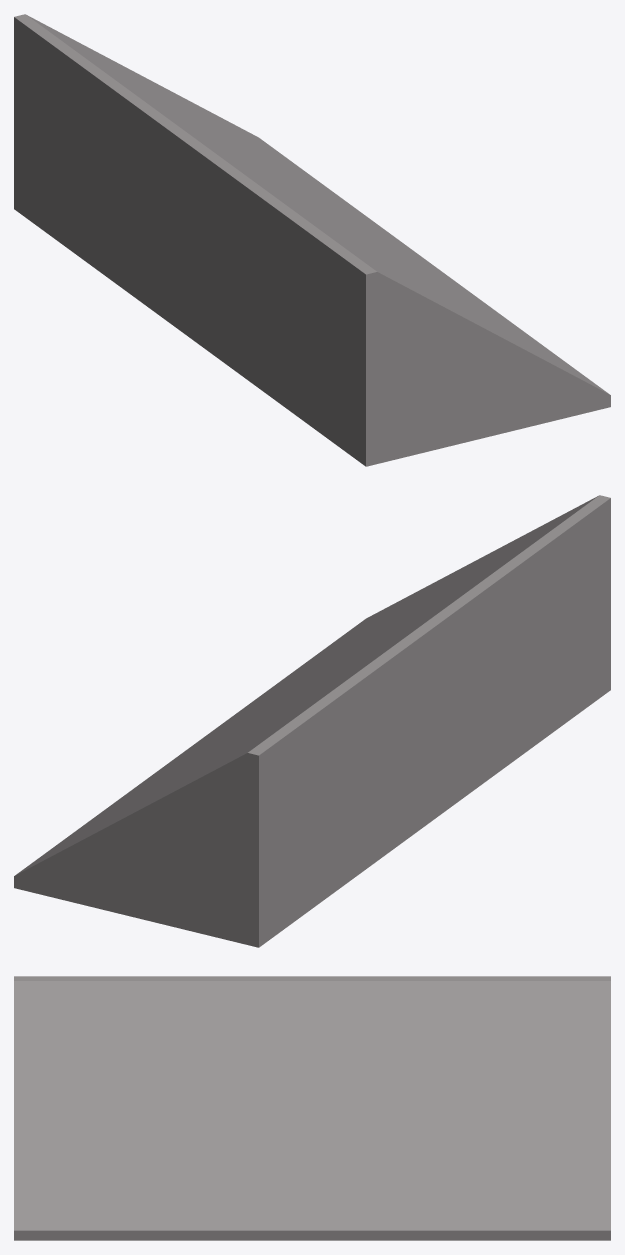
The model's file is pavement.fbx.
The picture shows the model from 3 angles, top to bottom: view 1: azimuth 30°, elevation 25°; view 2: azimuth 150°, elevation 25°; view 3: azimuth 270°, elevation 25°; orthographic projection. The views are drawn at different scales.
Visible parts, largest first — view 1: pavement; view 2: pavement; view 3: pavement.
Part boxes in pixels (left/top/right/bottom): pavement: left=14, top=14, right=610, bottom=466; pavement: left=14, top=495, right=610, bottom=947; pavement: left=14, top=976, right=610, bottom=1240.
Bounding box in the file's own units: 200 × 150 × 498.
Materials: 1 (1 with a texture image).
